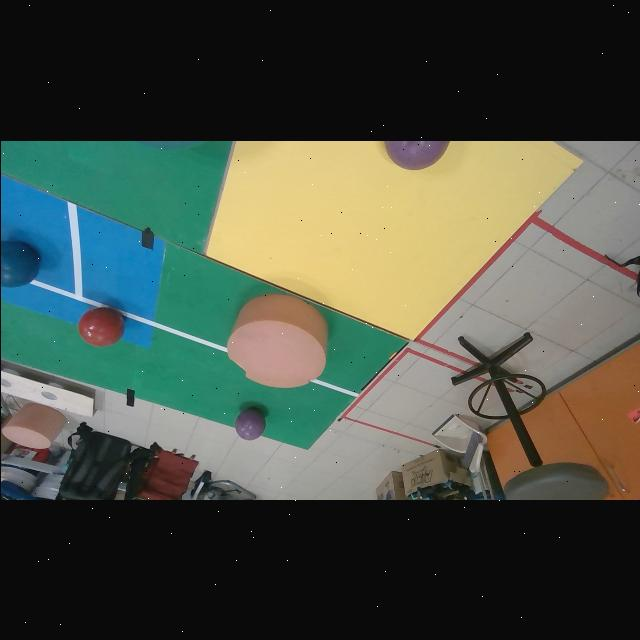B: (0, 241, 39, 287)
P: (384, 140, 450, 170), (234, 409, 265, 440)
R: (78, 307, 124, 346)
